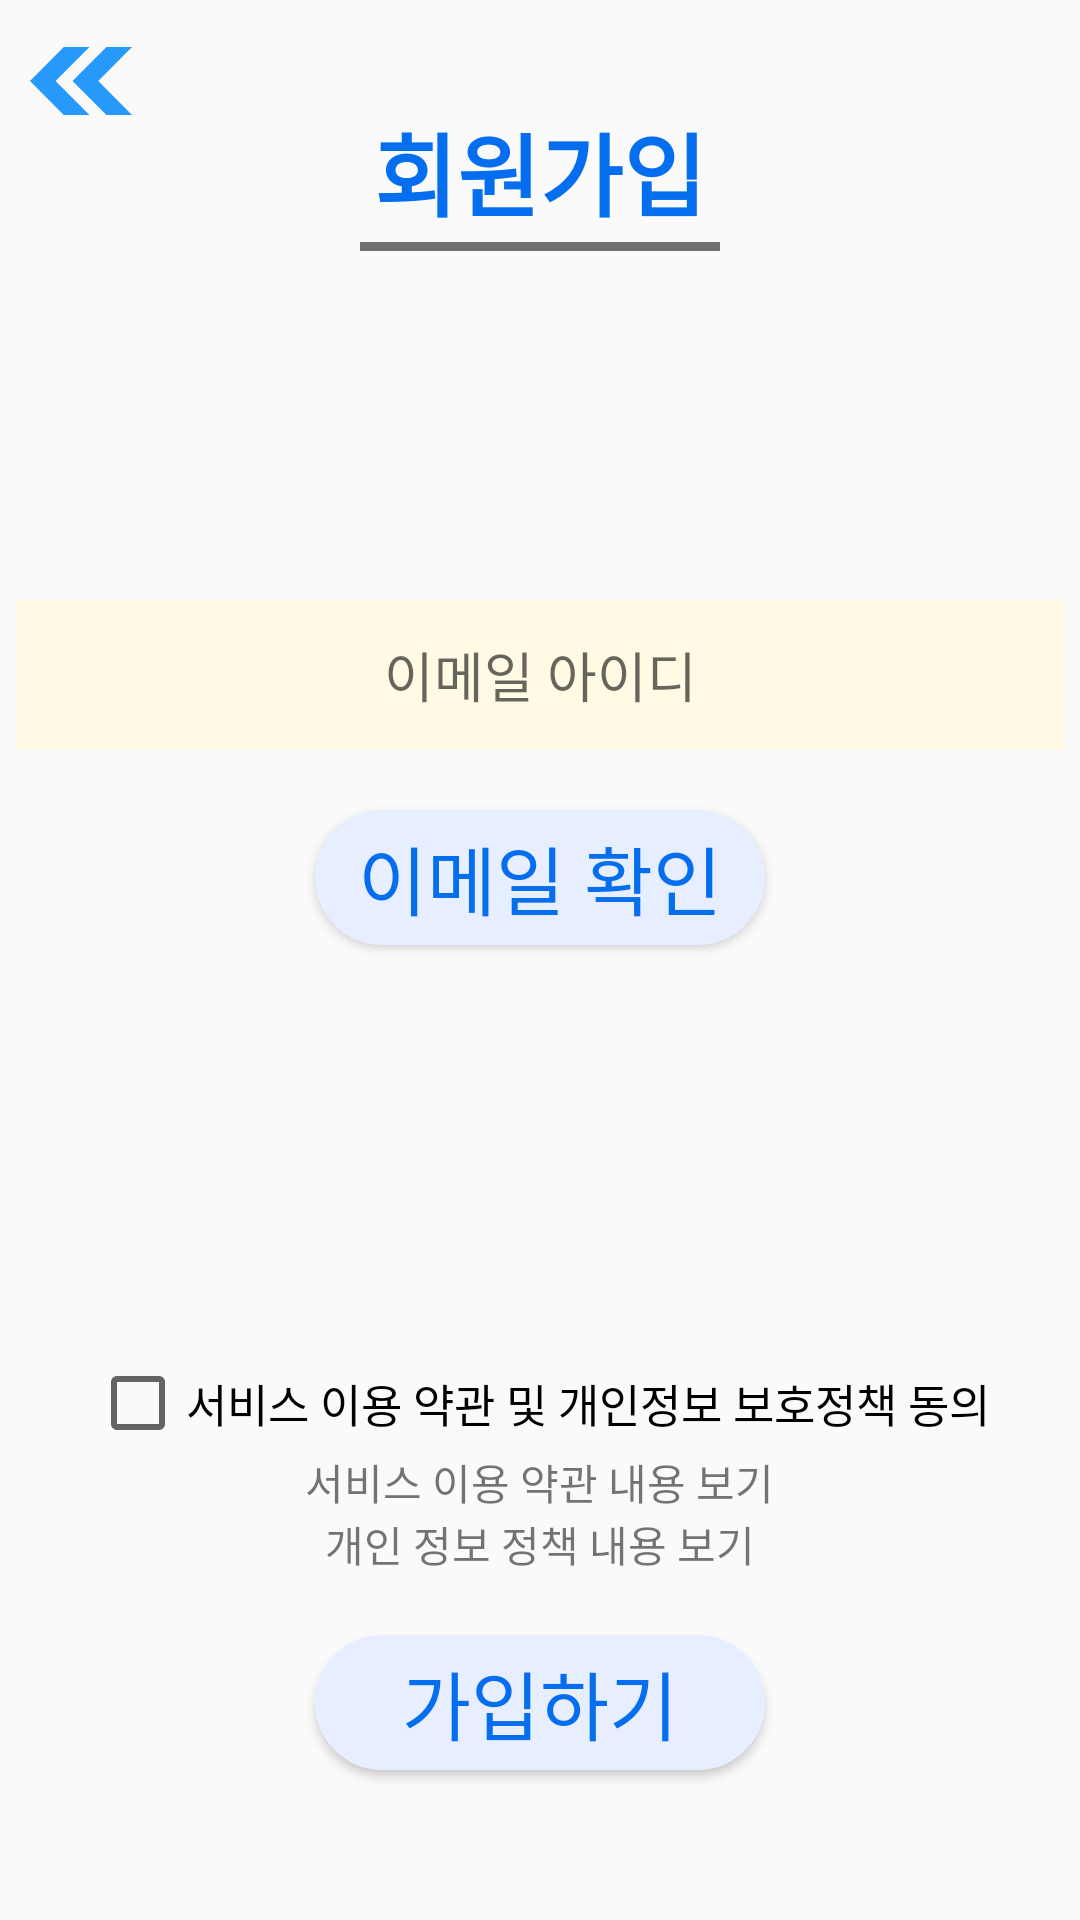

Locate icon controls on the screen. Image size 1080 × 1920, boxes as (x1, y1, x2, y2).
double arrow: (30, 47, 132, 115)
